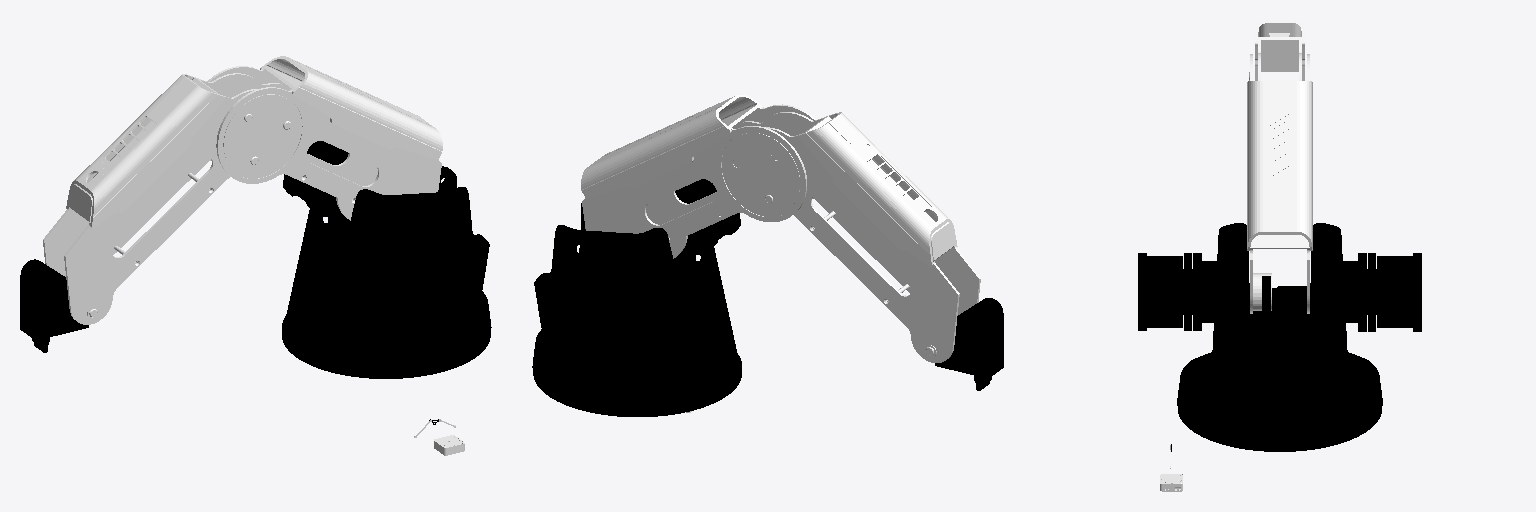
URDF robot description (dobot):
<?xml version="1.0" encoding="utf-8"?>
<!-- =================================================================================== -->
<!-- |    This document was autogenerated by xacro from robot1.urdf.xacro              | -->
<!-- |    EDITING THIS FILE BY HAND IS NOT RECOMMENDED                                 | -->
<!-- =================================================================================== -->
<robot name="dobot">
  <material name="black">
    <color rgba="0 0 0 1"/>
  </material>
  <material name="white">
    <color rgba="1 1 1 1"/>
  </material>
  <link name="base_link">
    <visual>
      <origin rpy="0 0 0" xyz="0.006535 -0.0812 0"/>
      <geometry>
        <mesh filename="package://dobot/urdf/meshes/0part.stl" scale="0.01 0.01 0.01"/>
      </geometry>
      <material name="white"/>
    </visual>
  </link>
  <link name="link_1">
    <visual>
      <origin rpy="0 0 0" xyz="0.006535 -0.0812 -0.1"/>
      <geometry>
        <mesh filename="package://dobot/urdf/meshes/1part.stl" scale="0.01 0.01 0.01"/>
      </geometry>
      <material name="black"/>
    </visual>
  </link>
  <link name="link_2">
    <visual>
      <origin rpy="0 0 0" xyz="0.006535 -0.0812 -0.143"/>
      <geometry>
        <mesh filename="package://dobot/urdf/meshes/2.stl" scale="0.01 0.01 0.01"/>
      </geometry>
      <material name="white"/>
    </visual>
  </link>
  <link name="link_2_1">
    <visual>
      <origin rpy="0 0.57 0" xyz="0 0 0"/>
      <geometry>
        <mesh filename="package://dobot/urdf/meshes/sterz2_1.stl" scale="0.01 0.01 0.01"/>
      </geometry>
      <material name="white"/>
    </visual>
  </link>
  <link name="link_3">
    <visual>
      <origin rpy="0 0 0" xyz="0.119 -0.0813 -0.217"/>
      <geometry>
        <mesh filename="package://dobot/urdf/meshes/3.stl" scale="0.01 0.01 0.01"/>
      </geometry>
      <material name="white"/>
    </visual>
  </link>
  <link name="triangle">
    <visual>
      <origin rpy="0 0.16 0" xyz="0 0 0"/>
      <geometry>
        <mesh filename="package://dobot/urdf/meshes/trianglestab.stl" scale="0.01 0.01 0.01"/>
      </geometry>
      <material name="black"/>
    </visual>
  </link>
  <link name="link_3_1">
    <visual>
      <origin rpy="0 -0.65 0" xyz="0 0 0"/>
      <geometry>
        <mesh filename="package://dobot/urdf/meshes/sterz3_1.stl" scale="0.01 0.01 0.01"/>
      </geometry>
      <material name="white"/>
    </visual>
  </link>
  <link name="link_4">
    <visual>
      <origin rpy="0 0 0" xyz="0.272 -0.079 -0.16"/>
      <geometry>
        <mesh filename="package://dobot/urdf/meshes/raborg.stl" scale="0.01 0.01 0.01"/>
      </geometry>
      <material name="black"/>
    </visual>
  </link>
  <joint name="0-1" type="revolute">
    <axis xyz="0 0 1"/>
    <limit effort="1000.0" lower="-2.39" upper="2.108" velocity="1"/>
    <parent link="base_link"/>
    <child link="link_1"/>
    <origin rpy="0 0 0" xyz="0 0 0.1"/>
  </joint>
  <joint name="1-2" type="revolute">
    <axis xyz="0 1 0"/>
    <limit effort="1000.0" lower="-0.18" upper="1.77" velocity="1"/>
    <parent link="link_1"/>
    <child link="link_2"/>
    <origin rpy="0 0 0" xyz="0 0 0.042"/>
  </joint>
  <joint name="1-2_1" type="revolute">
    <axis xyz="0 1 0"/>
    <limit effort="1000.0" lower="-6.28" upper="6.28" velocity="1"/>
    <parent link="link_1"/>
    <child link="link_2_1"/>
    <origin rpy="0 0 0" xyz="0.04 -0.009 0.0625"/>
  </joint>
  <joint name="2-3" type="revolute">
    <axis xyz="0 1 0"/>
    <limit effort="1000.0" lower="-0.34" upper="1.12" velocity="1"/>
    <parent link="link_2"/>
    <child link="link_3"/>
    <origin rpy="0 0 0" xyz="-0.11246 0 0.0744"/>
  </joint>
  <joint name="2_1-triangle" type="revolute">
    <axis xyz="0 1 0"/>
    <limit effort="1000.0" lower="-6.28" upper="6.28" velocity="1"/>
    <parent link="link_2_1"/>
    <child link="triangle"/>
    <origin rpy="0 0 0" xyz="-0.1137 0.005 0.073"/>
  </joint>
  <joint name="triangle-3_1" type="revolute">
    <axis xyz="0 1 0"/>
    <limit effort="1000.0" lower="-6.28" upper="6.28" velocity="1"/>
    <parent link="triangle"/>
    <child link="link_3_1"/>
    <origin rpy="0 0 0" xyz="-0.071 0 0.0115"/>
  </joint>
  <joint name="3_1-4" type="revolute">
    <axis xyz="0 1 0"/>
    <limit effort="1000.0" lower="-6.28" upper="6.28" velocity="1"/>
    <parent link="link_3_1"/>
    <child link="link_4"/>
    <origin rpy="0 0 0" xyz="-0.117 0 -0.0888"/>
  </joint>
</robot>

--- Facts derived from the render (not from the file) ---
3 views of the same robot in one strip: view 1: azimuth 30°, elevation 25°; view 2: azimuth 150°, elevation 25°; view 3: azimuth 270°, elevation 25° (orthographic).
Model dobot with 8 links and 7 joints (7 revolute), rooted at base_link, posed all joints at 0.
Links seen in each view (by area): view 1: link_1, link_3, link_2, link_4; view 2: link_1, link_3, link_2, link_4; view 3: link_1, link_2, link_3.
Boxes of the visible links, left/top/right/bottom form: link_1: left=282, top=141, right=491, bottom=378; link_3: left=43, top=73, right=285, bottom=324; link_2: left=207, top=56, right=442, bottom=220; link_4: left=20, top=259, right=88, bottom=352; link_1: left=532, top=179, right=741, bottom=416; link_3: left=738, top=112, right=980, bottom=362; link_2: left=581, top=95, right=815, bottom=258; link_4: left=935, top=298, right=1003, bottom=390; link_1: left=1138, top=223, right=1421, bottom=451; link_2: left=1247, top=54, right=1312, bottom=313; link_3: left=1255, top=20, right=1304, bottom=80.
Bounding box of the posed robot: 3.43 × 1.92 × 2.75 m (x, y, z).
Meshes: 8 distinct files referenced, 8 mesh visuals loaded (8 binary STL).